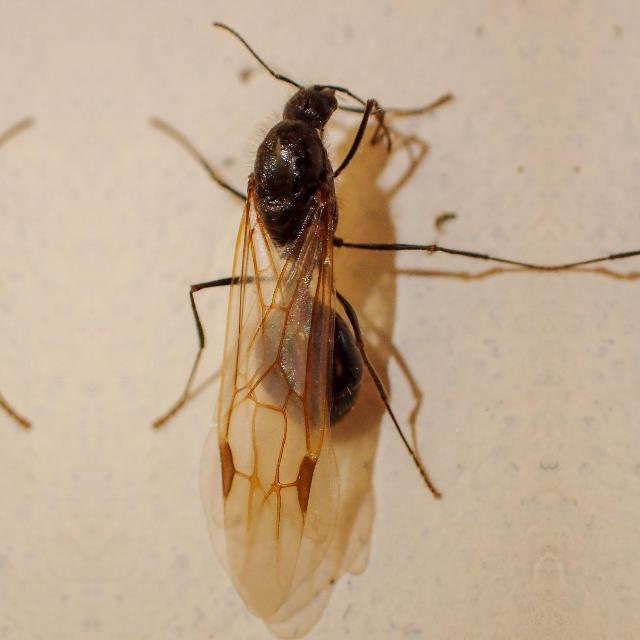Messor: (168, 21, 412, 596)
